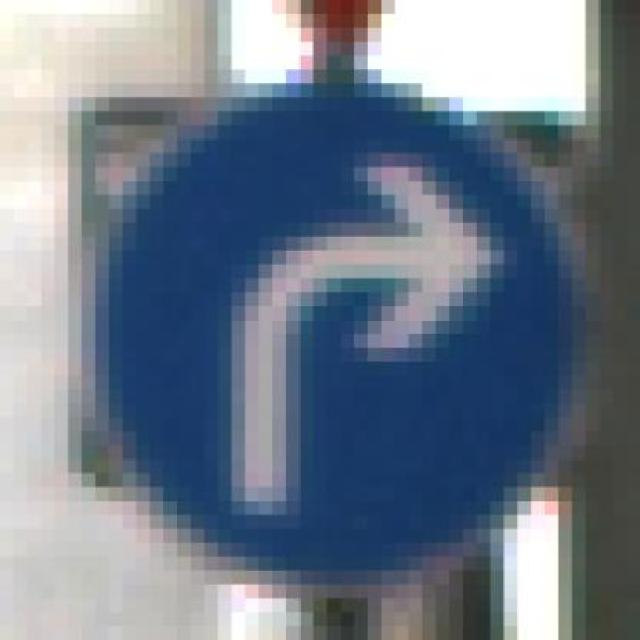Turn right ahead: (82, 83, 600, 585)
